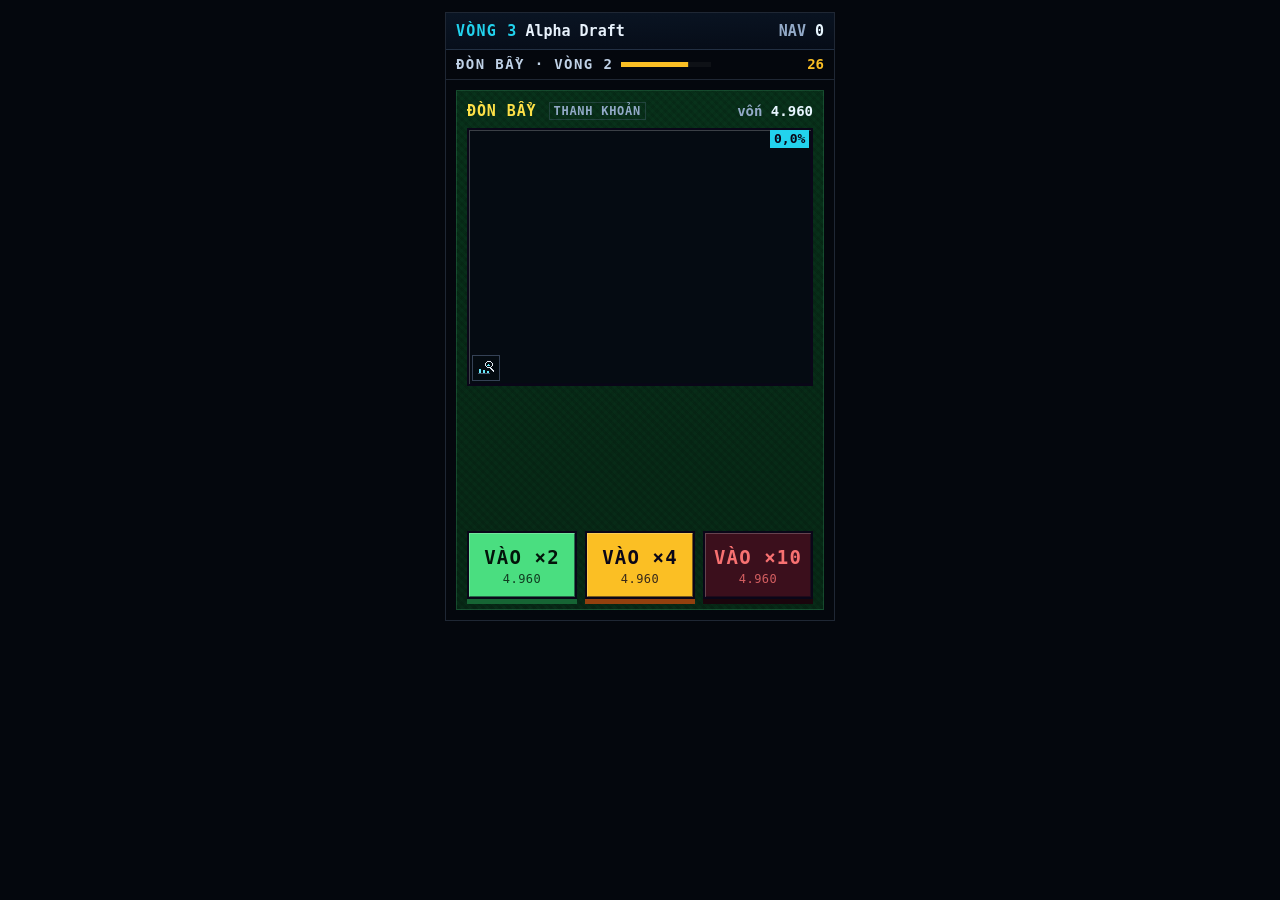
it: §V — D492: lõi Đòn Bẩy trong màn › vế ngược D504: server chưa gửi tạm tính ⇒ đường lui % giá, không có số tiền
Click the button "VÀO ×10 4.960". click: (758, 565)
box: [703, 531, 813, 599]
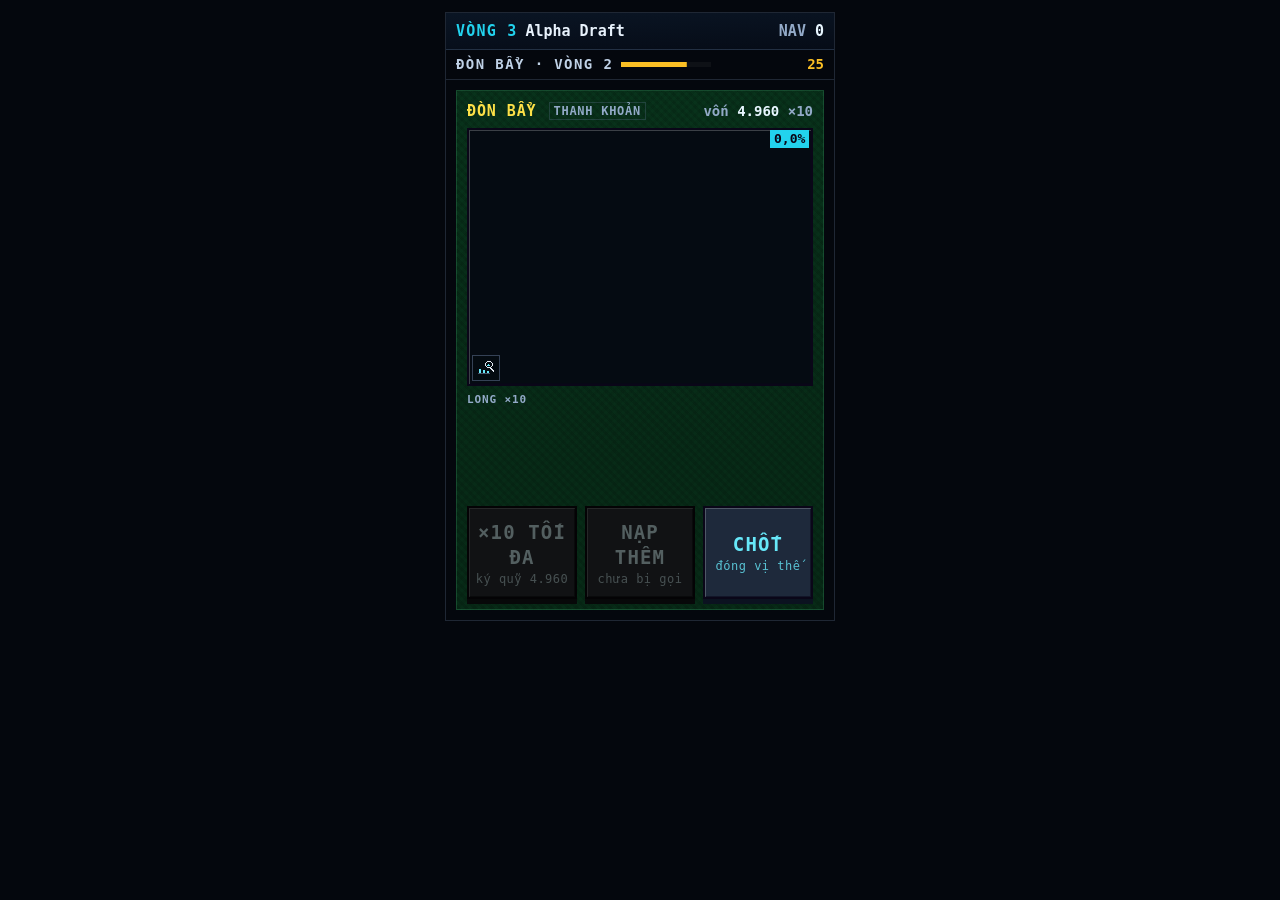
Now the text "LONG ×10" is shown, box [467, 393, 527, 408]
